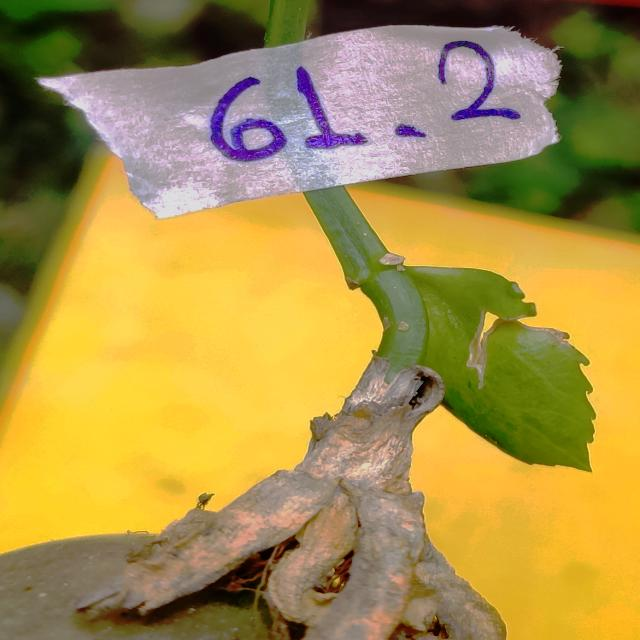Estado-2: (0, 187, 593, 640)
